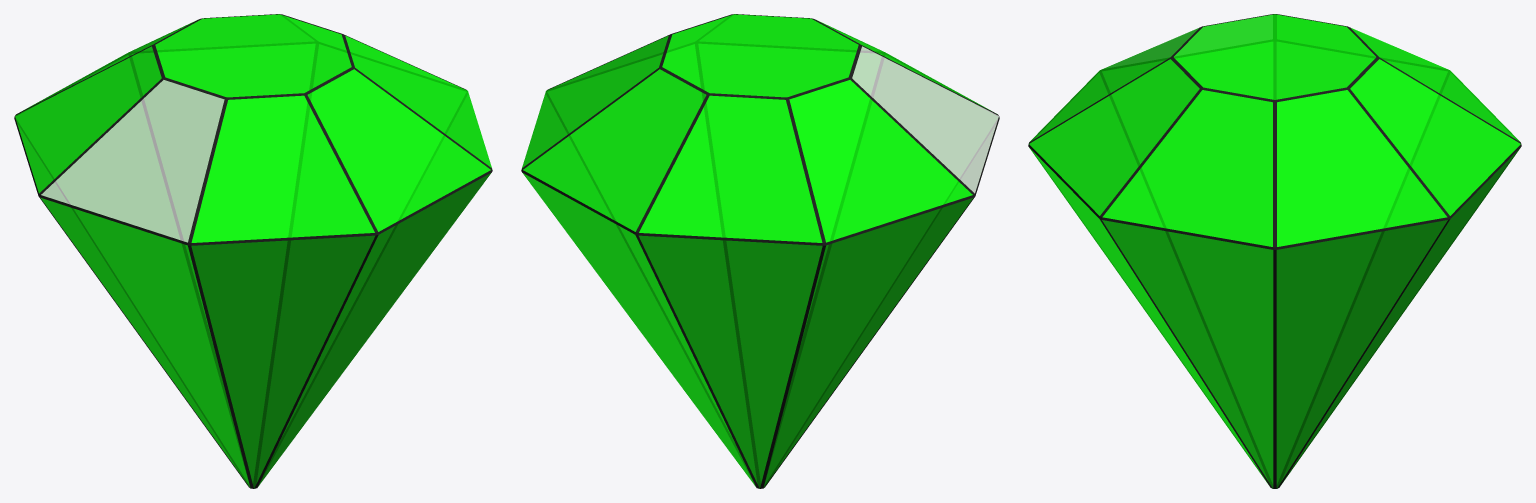
The model's file is diamond_green.fbx.
3 renders of one model, left to right at view 1: azimuth 30°, elevation 25°; view 2: azimuth 150°, elevation 25°; view 3: azimuth 270°, elevation 25°, orthographic.
Parts seen in each view (by area): view 1: Cylinder; view 2: Cylinder; view 3: Cylinder.
Boxes of the visible parts, box(x1,y1,x2,y2) form: Cylinder: box(14, 14, 492, 488); Cylinder: box(521, 14, 999, 488); Cylinder: box(1028, 14, 1521, 488).
Bounding box in the file's own units: 191 × 184 × 191.
